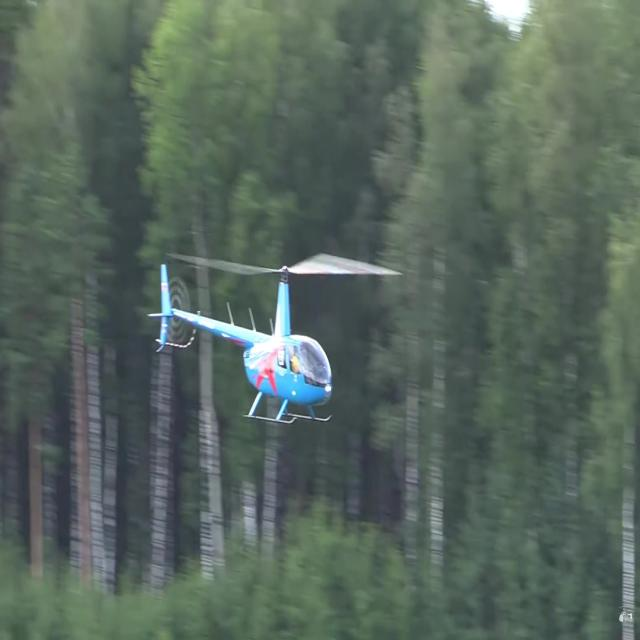CIV_HELO: (146, 260, 334, 426)
